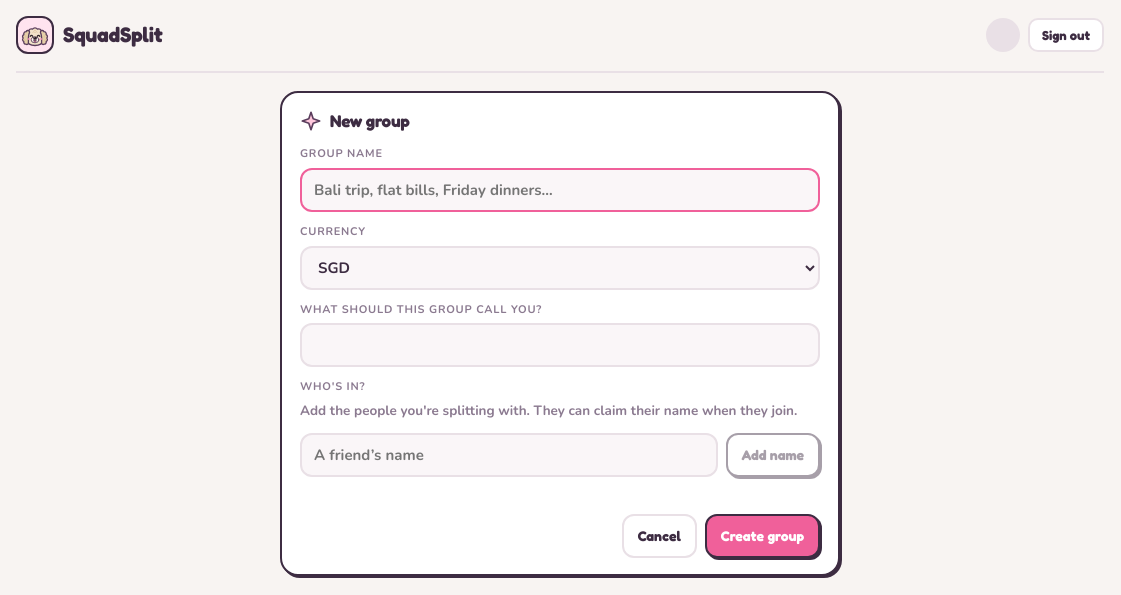
Test case: Create group page › sends a nickname for you in the group when you change it from your profile name
Later steps or results of the test are not shown.
Type "NYC" into the field labelled "Group name" at [560, 190], box [300,168,820,212]
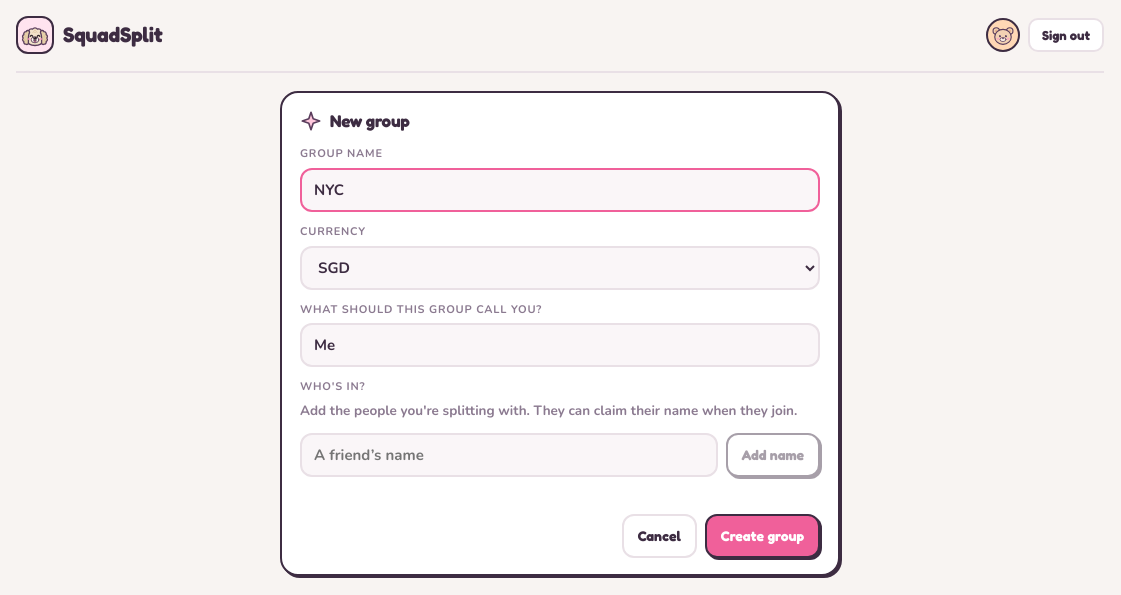
Now the field labelled "What should this group call you?" holds "Me", box [300,324,820,368]
